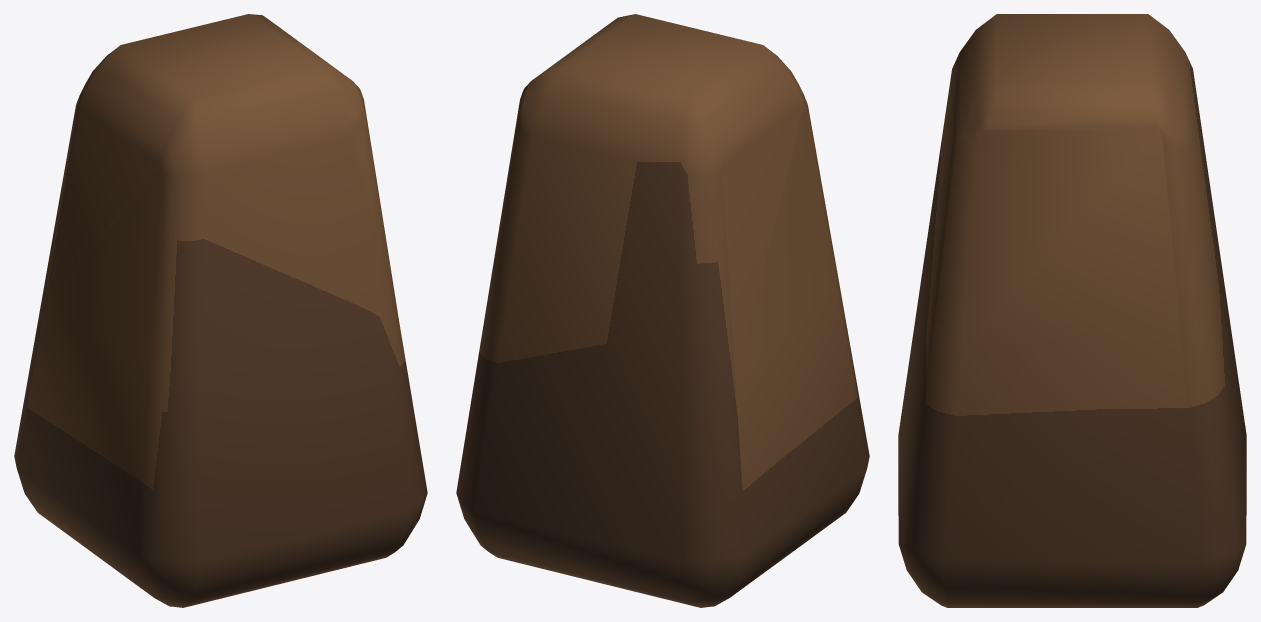
The model's file is darker dirt tall.fbx.
3 renders of one model, left to right at view 1: azimuth 30°, elevation 25°; view 2: azimuth 150°, elevation 25°; view 3: azimuth 270°, elevation 25°, orthographic. The views are drawn at different scales.
Parts seen in each view (by area): view 1: Cube.014; view 2: Cube.014; view 3: Cube.014.
Part boxes in pixels (left/top/right/bottom): Cube.014: left=14, top=14, right=427, bottom=607; Cube.014: left=456, top=14, right=869, bottom=607; Cube.014: left=898, top=14, right=1246, bottom=607.
Size of the model in its own units: 94.22 by 151 by 94.32.
